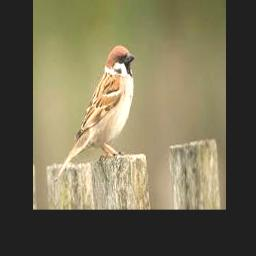Sparrow: (55, 45, 135, 182)
